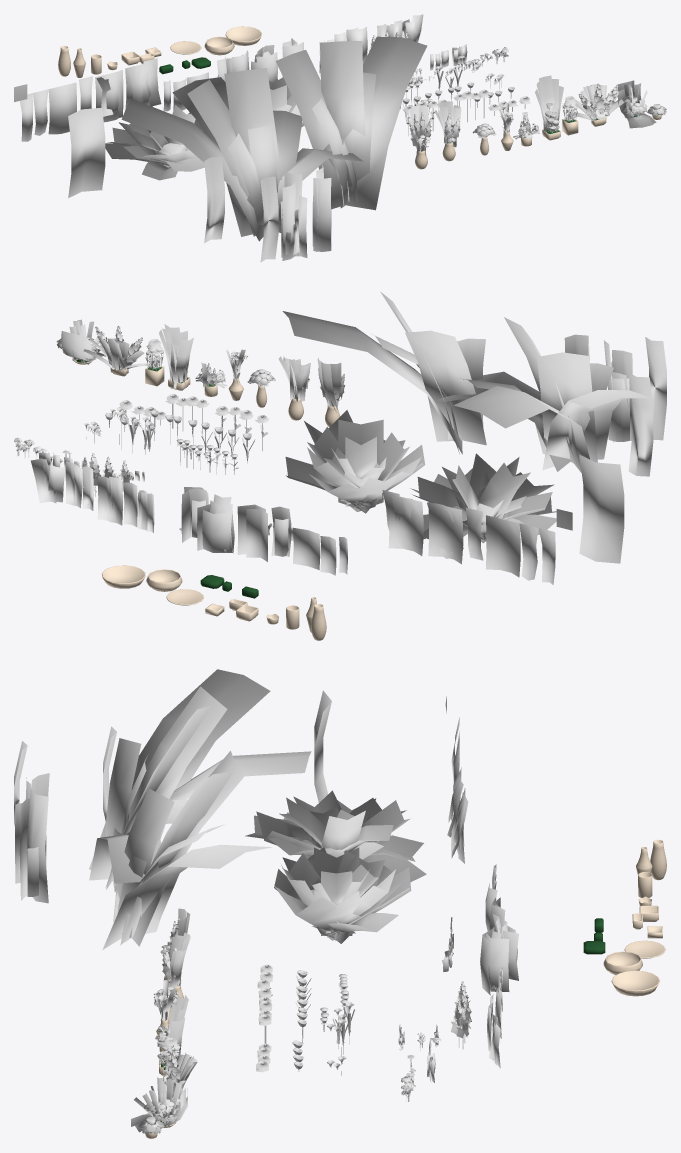
File: FlowerArrangementAsset.fbx
3 renders of one model, top to bottom at view 1: azimuth 30°, elevation 25°; view 2: azimuth 150°, elevation 25°; view 3: azimuth 270°, elevation 25°, orthographic. The views are drawn at different scales.
Visible parts, largest first — view 1: Greenery_Fern_B_3, Greenery_Fern_B_2, Greenery_Fern_A_2, Greenery_Fern_A_1, Greenery_Fern_C_2, Greenery_Fern_B_1, Greenery_Fern_C_3, Greenery_Ivy_6, FlowerArrangement_8, Greenery_Fern_C_1, FlowerArrangement_6, Greenery_Ivy_5 (+16 smaller); view 2: Greenery_Fern_B_2, Greenery_Fern_B_3, Greenery_Fern_A_3, Greenery_Fern_A_2, Greenery_Fern_A_1, Greenery_Fern_B_1, Greenery_Ivy_6, Greenery_Myrtle_6, Greenery_Fern_C_2, Greenery_Ivy_5, Greenery_Ivy_3, Greenery_Myrtle_5 (+23 smaller); view 3: Greenery_Fern_B_2, Greenery_Fern_B_3, Greenery_Fern_A_3, Greenery_Fern_A_2, Greenery_Fern_C_3, FlowerArrangement_9, Greenery_Myrtle_7, Greenery_Fern_A_1, FlowerArrangement_2, Containers_10, Greenery_Fern_C_2, FlowerArrangement_8 (+4 smaller).
Boxes of the visible parts, left/top/right/bottom form: Greenery_Fern_B_3: left=275, top=36, right=427, bottom=210; Greenery_Fern_B_2: left=121, top=68, right=363, bottom=241; Greenery_Fern_A_2: left=105, top=105, right=204, bottom=180; Greenery_Fern_A_1: left=68, top=107, right=105, bottom=198; Greenery_Fern_C_2: left=280, top=172, right=307, bottom=260; Greenery_Fern_B_1: left=204, top=157, right=224, bottom=243; Greenery_Fern_C_3: left=312, top=164, right=331, bottom=251; Greenery_Ivy_6: left=125, top=58, right=161, bottom=109; FlowerArrangement_8: left=570, top=83, right=624, bottom=126; Greenery_Fern_C_1: left=260, top=176, right=278, bottom=262; FlowerArrangement_6: left=535, top=75, right=563, bottom=140; Greenery_Ivy_5: left=95, top=70, right=123, bottom=122; Greenery_Fern_B_2: left=437, top=317, right=651, bottom=473; Greenery_Fern_B_3: left=282, top=291, right=486, bottom=454; Greenery_Fern_A_3: left=285, top=410, right=425, bottom=513; Greenery_Fern_A_2: left=410, top=453, right=556, bottom=543; Greenery_Fern_A_1: left=579, top=454, right=624, bottom=563; Greenery_Fern_B_1: left=628, top=372, right=653, bottom=476; Greenery_Ivy_6: left=382, top=490, right=423, bottom=555; Greenery_Myrtle_6: left=197, top=494, right=234, bottom=553; Greenery_Fern_C_2: left=603, top=340, right=632, bottom=442; Greenery_Ivy_5: left=427, top=502, right=463, bottom=564; Greenery_Ivy_3: left=486, top=515, right=520, bottom=577; Greenery_Myrtle_5: left=237, top=504, right=267, bottom=561; Greenery_Fern_B_2: left=89, top=669, right=311, bottom=892; Greenery_Fern_B_3: left=102, top=751, right=271, bottom=949; Greenery_Fern_A_3: left=274, top=847, right=411, bottom=943; Greenery_Fern_A_2: left=245, top=790, right=426, bottom=882; Greenery_Fern_C_3: left=19, top=789, right=48, bottom=903; FlowerArrangement_9: left=131, top=1077, right=187, bottom=1132; Greenery_Myrtle_7: left=480, top=927, right=509, bottom=995; Greenery_Fern_A_1: left=314, top=690, right=331, bottom=802; FlowerArrangement_2: left=162, top=932, right=190, bottom=1008; Containers_10: left=611, top=970, right=659, bottom=996; Greenery_Fern_C_2: left=15, top=773, right=49, bottom=883; FlowerArrangement_8: left=163, top=1045, right=197, bottom=1097.
Bounding box in the file's own units: 6.86 × 1.68 × 5.44.
